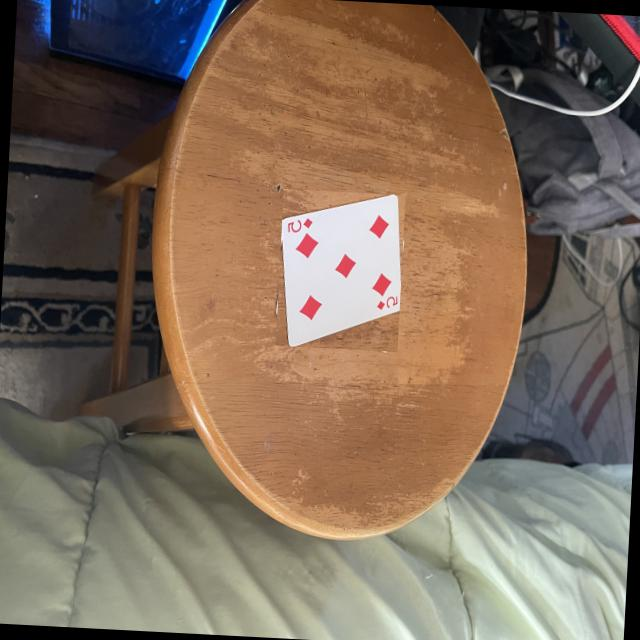5 of diamonds: (281, 196, 399, 346)
